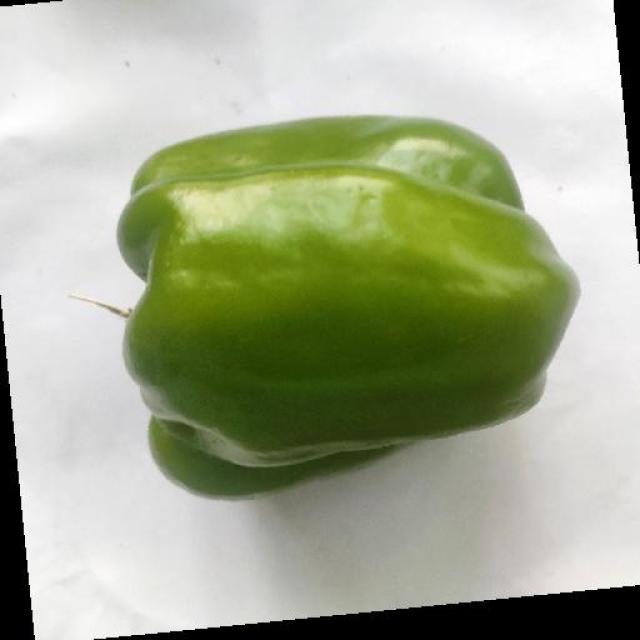Fresh_Capsicum: (117, 121, 574, 488)
